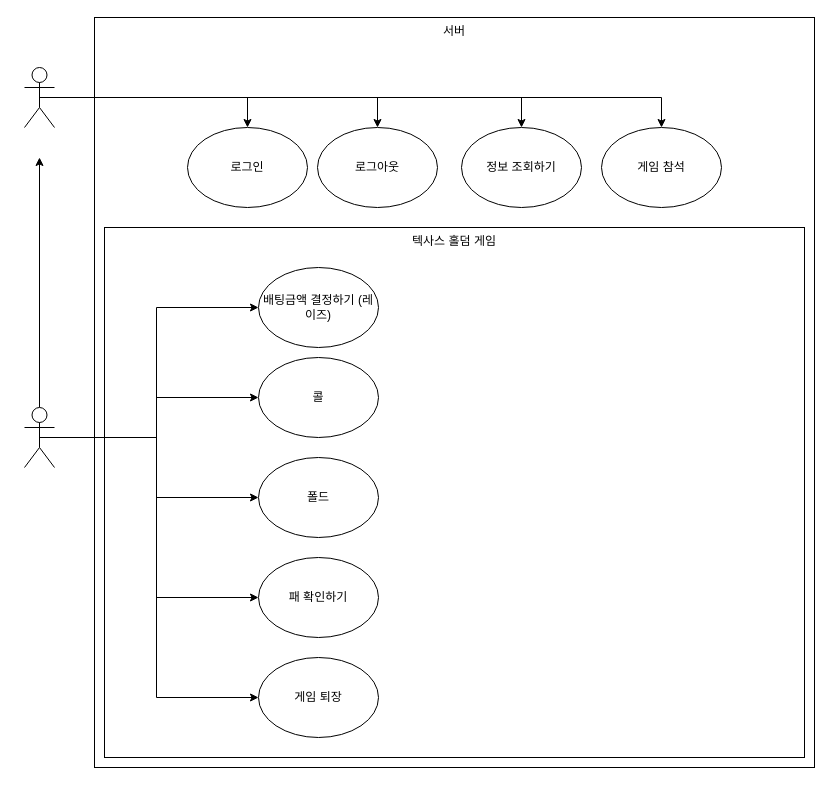
The diagram is 832 pixels wide and 785 high, and some of its shapes have lost their labels. Here are the shapes that lost their labels. From the top down, the centre of each, then its label:
At (39,97): "User".
At (39,437): "플레이어".
